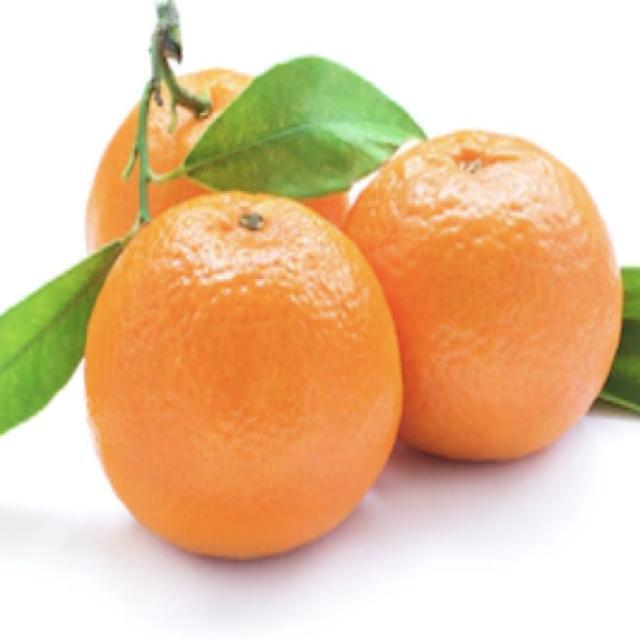Orange: (83, 188, 404, 561), (342, 128, 624, 463)
